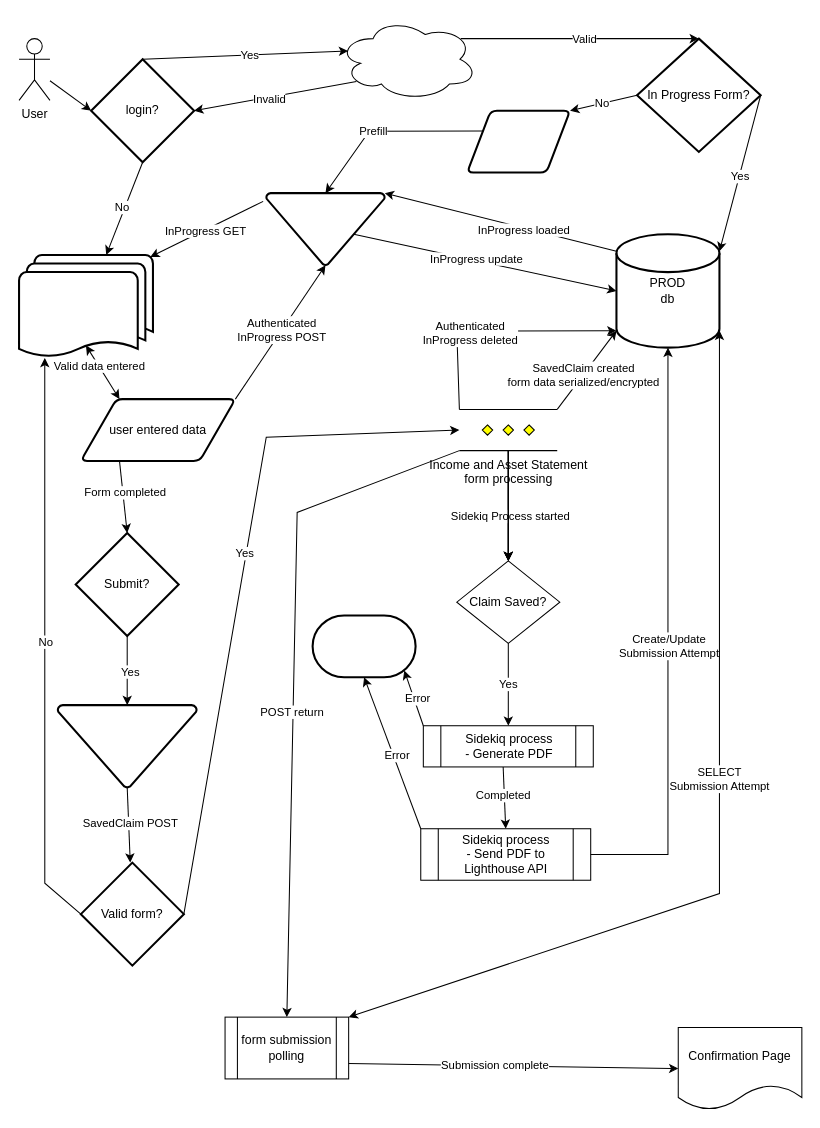
This 820x1128 diagram has some shape labels left out. The box of each missing label's shape, as (x1, y1, x2, y2) in pixels:
Authentication: (337, 17, 477, 100)
Error log entry: (311, 614, 416, 678)
In Progress API: (265, 192, 385, 266)
Income and Asset Statement 21P-0969: (18, 253, 153, 358)
Income and Assets API: (56, 704, 197, 788)
VA Profile: (466, 109, 571, 173)
